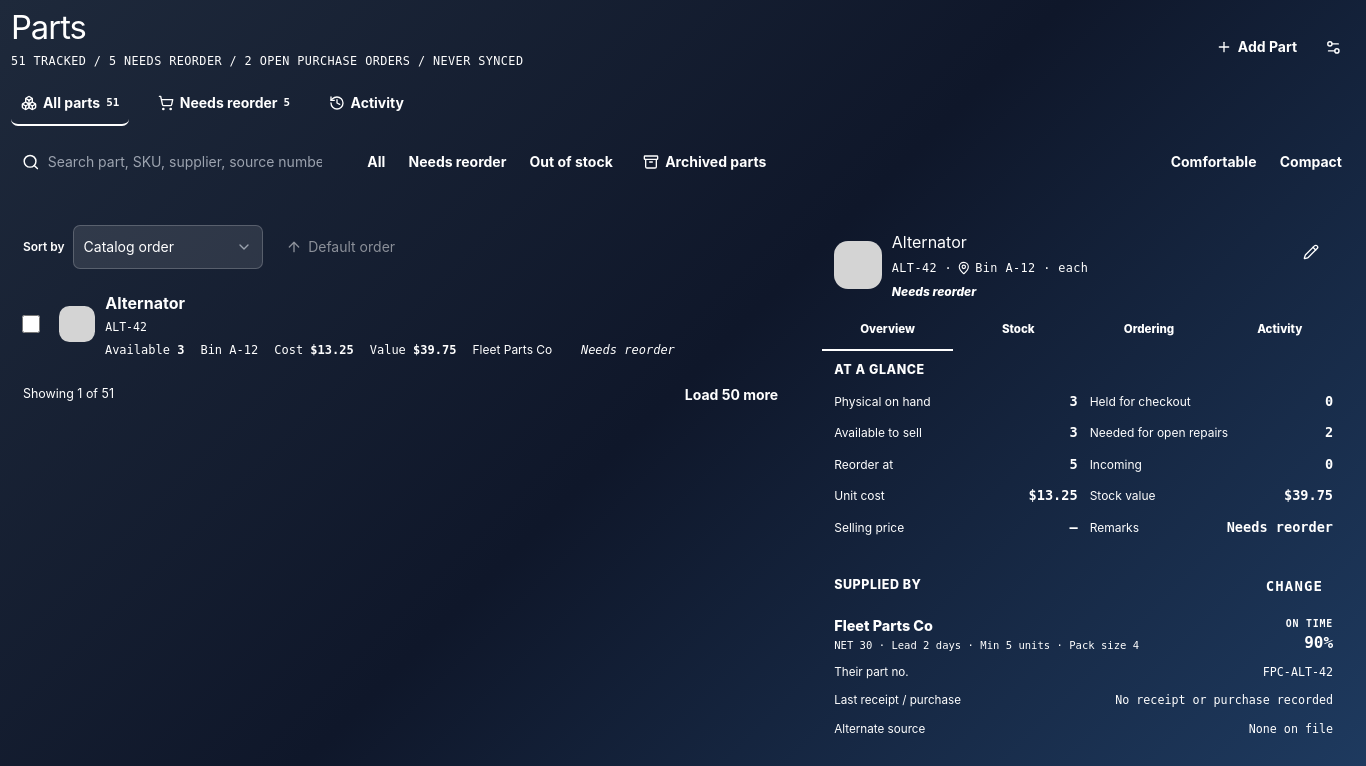
Test: DB-038 Parts & inventory workspace › appends explicit 50-row server pages and resets the loaded sequence when search changes
The width and height of the screenshot is (1366, 766).
Expected: the heading "Alternator" is shown, [892,232,967,252]
Expected: the text "Showing 1 of 51" is shown, [23,385,114,404]
Click the button "Load 50 more" at (732, 395), box [675,373,788,417]
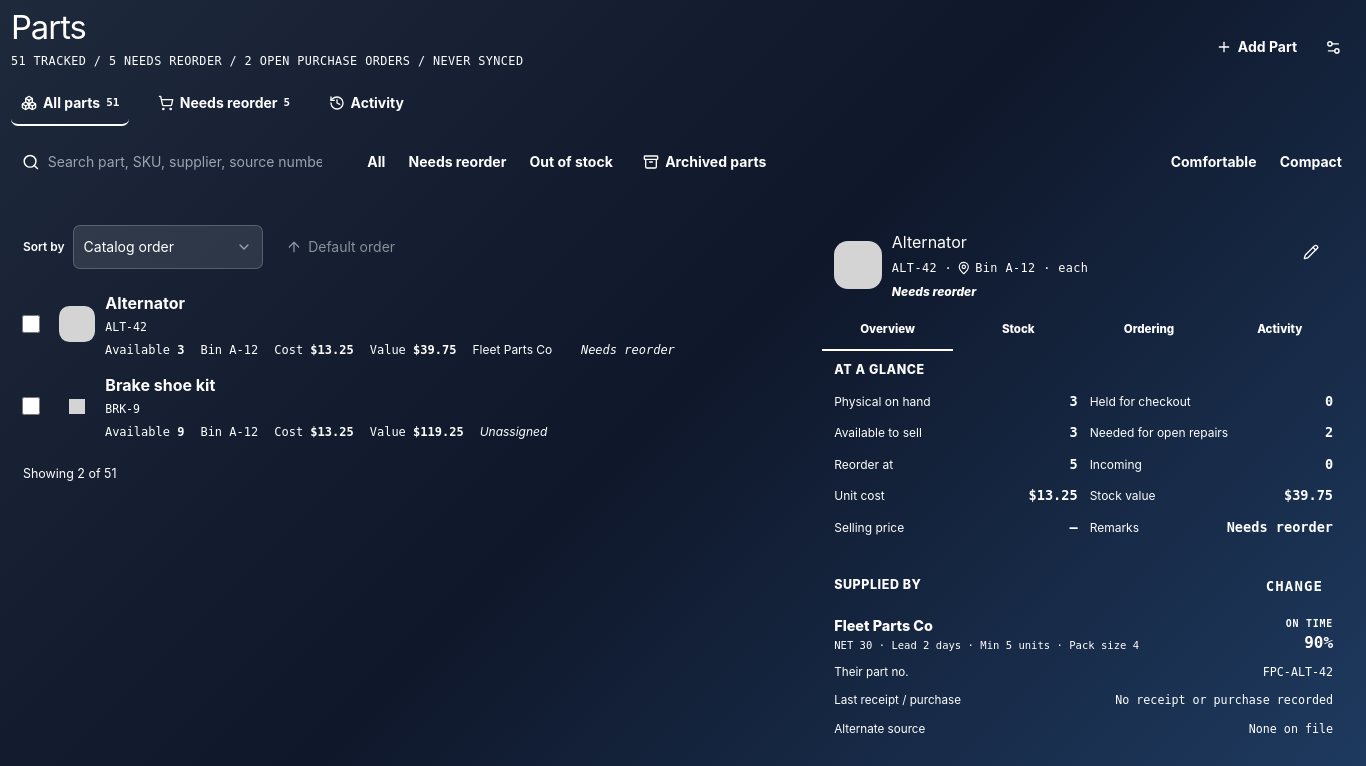
Expected: the text "Showing 2 of 51" is shown, [23,464,116,483]
Expected: the number of rows with class "db-parts-workbench__row" is 2, [11,284,810,366]; [11,365,810,447]
Expected: the text "Brake shoe kit" is shown, [105,373,215,397]
Type "brake" into the search field named "Search parts" at (192, 162), box [48,141,336,183]
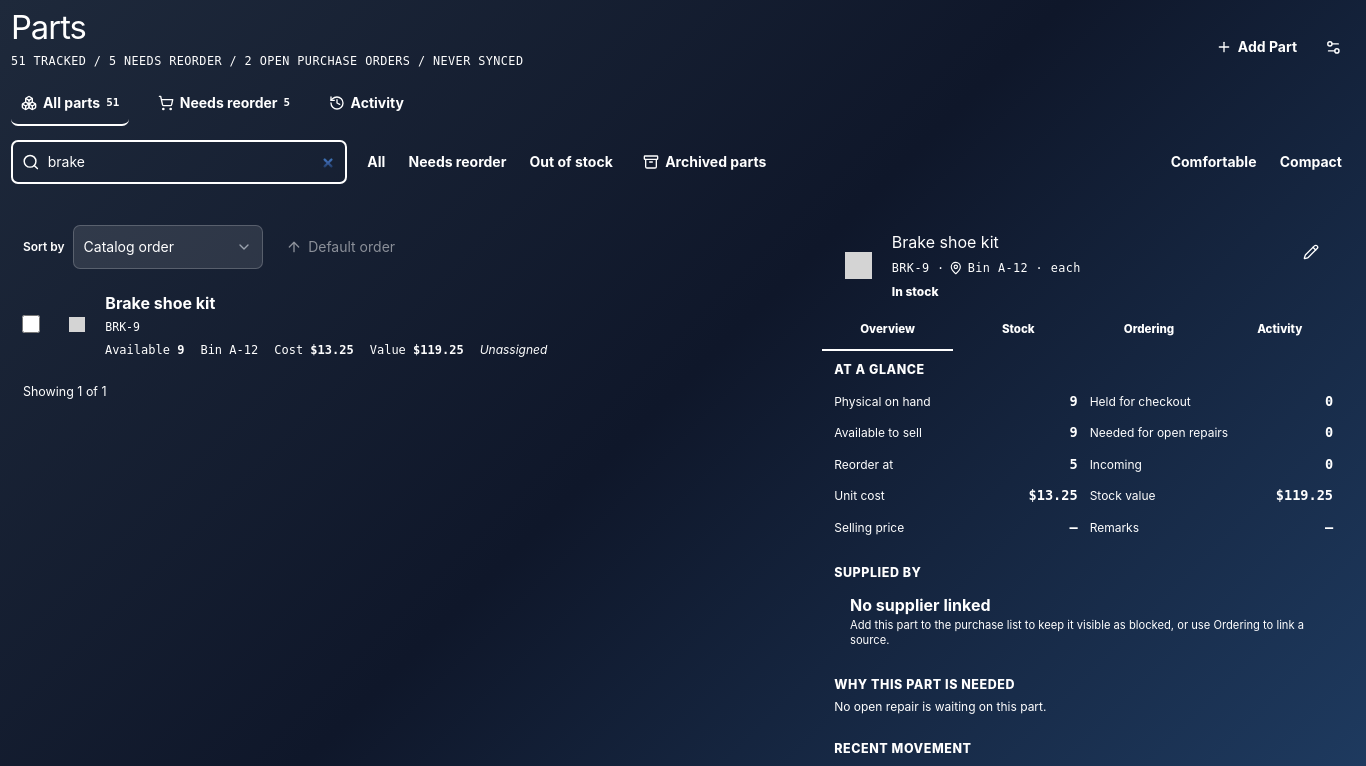
Expected: the button "Load 50 more" is not shown
Expected: the text "Showing 1 of 1" is shown, [23,382,106,401]
Clear the search field named "Search parts" at (192, 162), box [48,141,336,183]
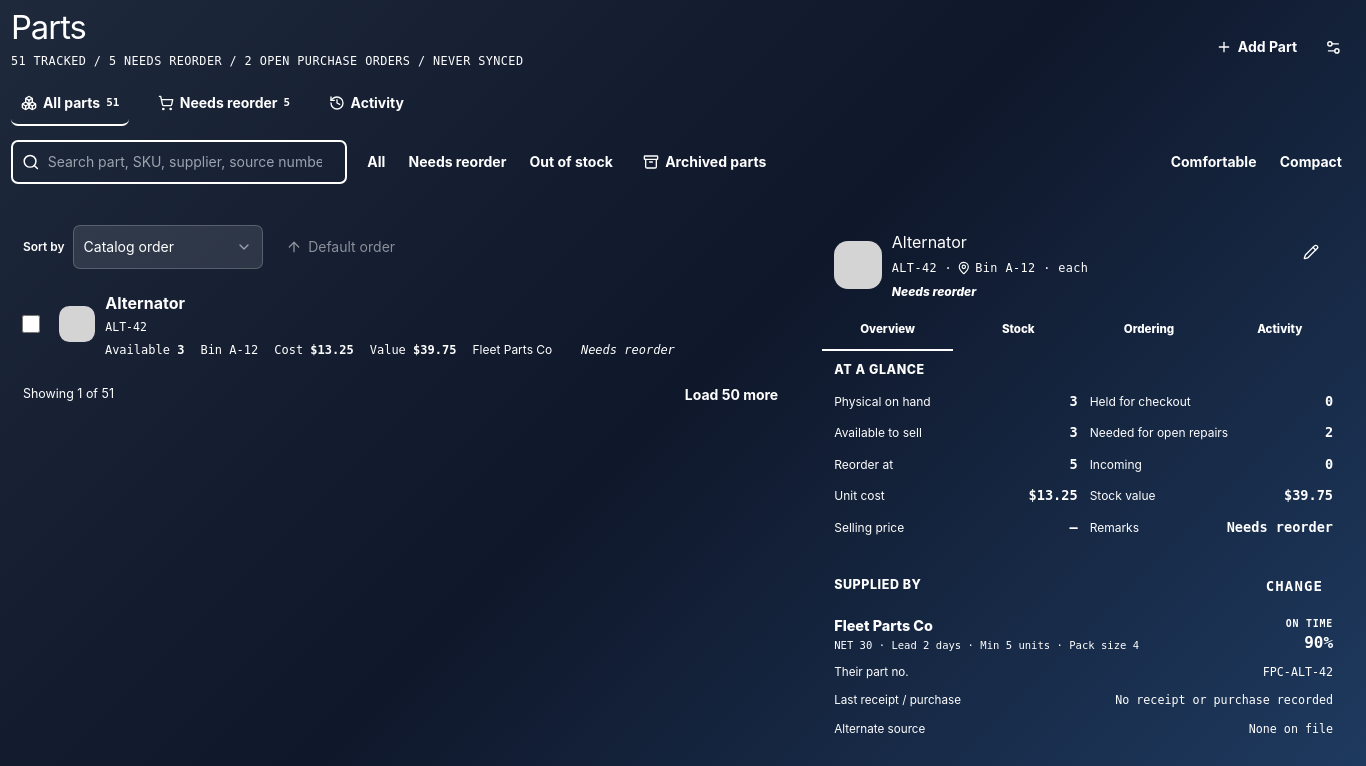
Expected: the text "Showing 1 of 51" is shown, [23,385,114,404]
Expected: the button "Load 50 more" is shown, [675,373,788,417]
